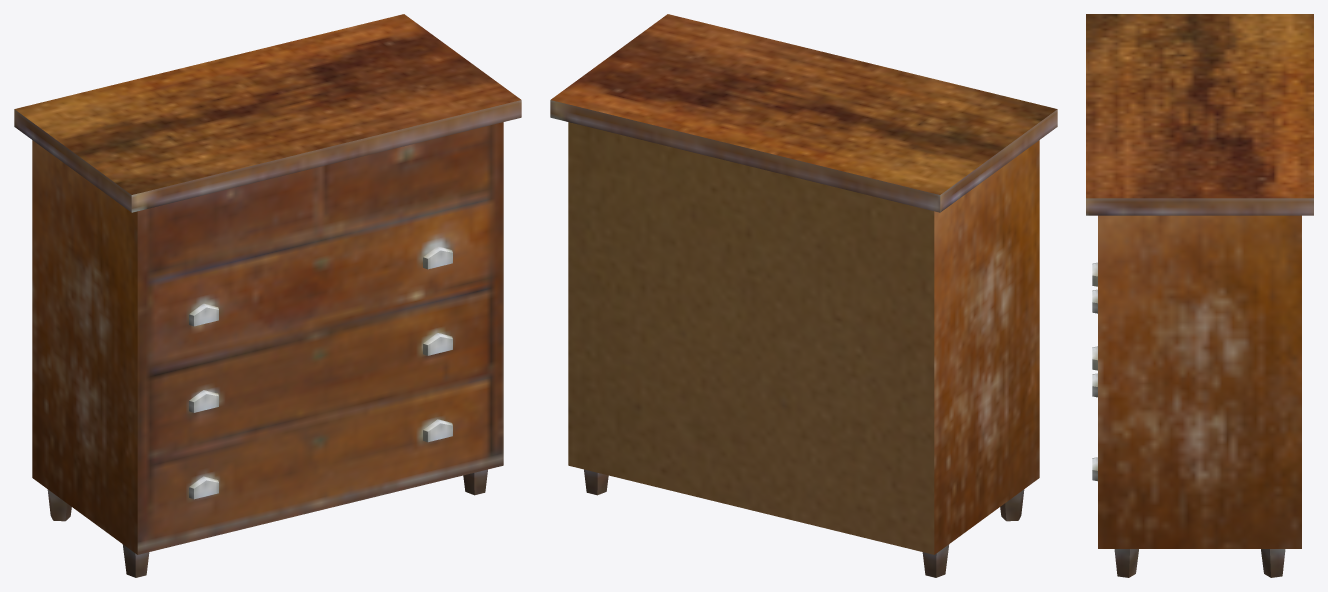
File: bedside_table.fbx
3 renders of one model, left to right at view 1: azimuth 30°, elevation 25°; view 2: azimuth 150°, elevation 25°; view 3: azimuth 270°, elevation 25°, orthographic. The views are drawn at different scales.
Visible parts, largest first — view 1: Chest, Chest.001, Cylinder.001; view 2: Chest, Cylinder.001; view 3: Chest, Cylinder.001, Chest.001.
Part boxes in pixels (bbox=[...]): Chest: bbox=[14, 14, 521, 554]; Chest.001: bbox=[189, 246, 452, 499]; Cylinder.001: bbox=[47, 469, 487, 577]; Chest: bbox=[550, 14, 1057, 554]; Cylinder.001: bbox=[584, 469, 1024, 577]; Chest: bbox=[1086, 14, 1313, 548]; Cylinder.001: bbox=[1114, 549, 1285, 577]; Chest.001: bbox=[1092, 262, 1097, 481].
Size of the model in its own units: 134 by 131 by 69.8.
Materials: 1 (1 with a texture image).
